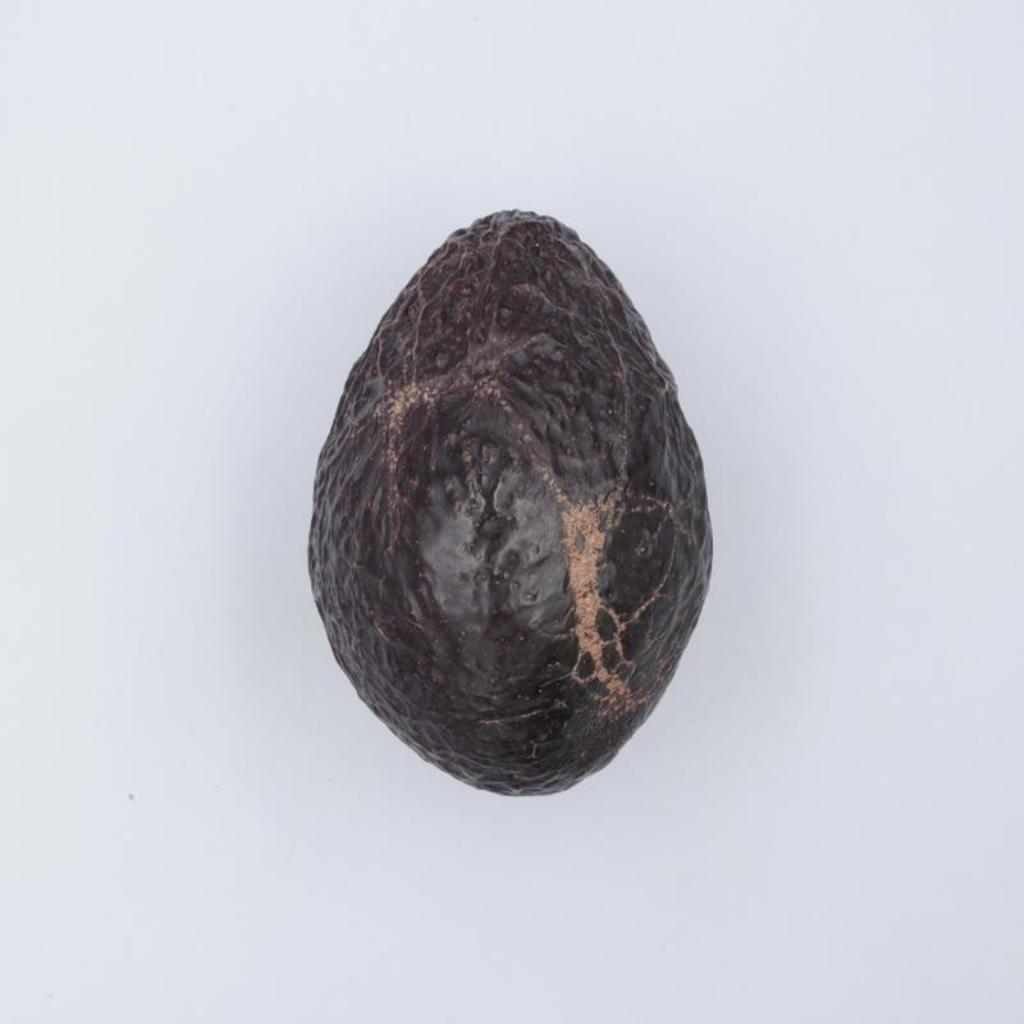scab: (308, 211, 712, 792)
